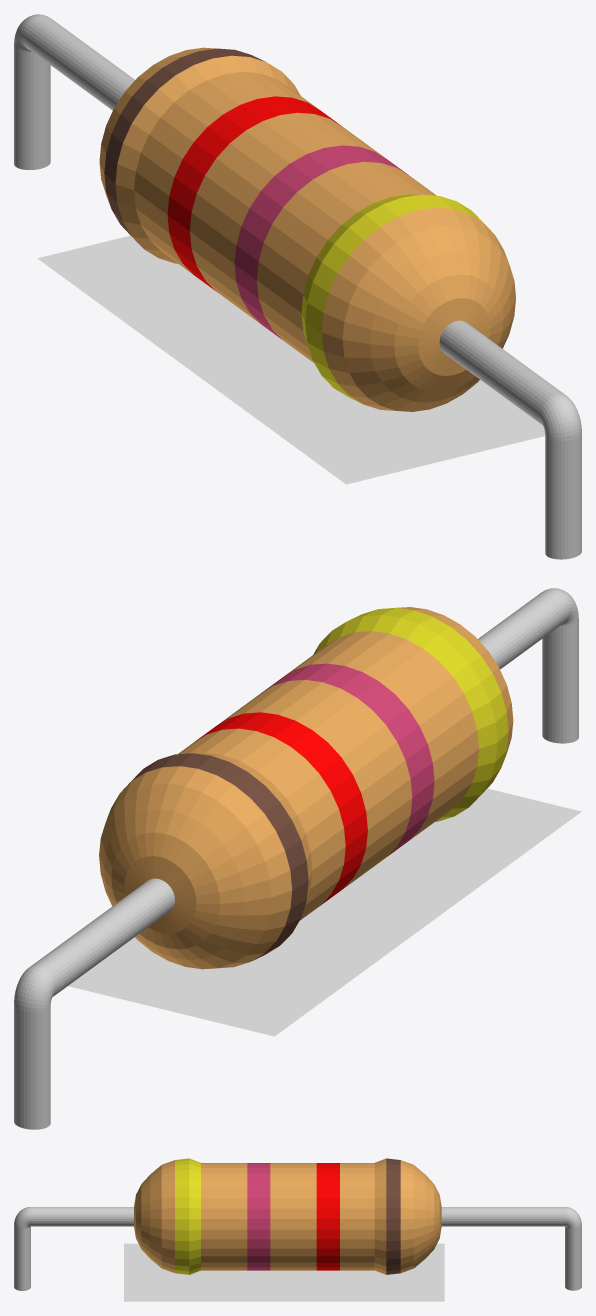
3 renders of one model, top to bottom at view 1: azimuth 30°, elevation 25°; view 2: azimuth 150°, elevation 25°; view 3: azimuth 270°, elevation 25°, orthographic. The views are drawn at different scales.
Parts seen in each view (by area): view 1: R_15, R_15_plane; view 2: R_15, R_15_plane; view 3: R_15, R_15_plane.
Part boxes in pixels (left/top/right/bottom): R_15: left=14, top=14, right=581, bottom=559; R_15_plane: left=37, top=235, right=545, bottom=484; R_15: left=14, top=588, right=578, bottom=1129; R_15_plane: left=68, top=788, right=581, bottom=1036; R_15: left=14, top=1158, right=581, bottom=1290; R_15_plane: left=124, top=1243, right=444, bottom=1301.
Bounding box in the file's own units: 0.0161 × 0.0159 × 0.0664.
